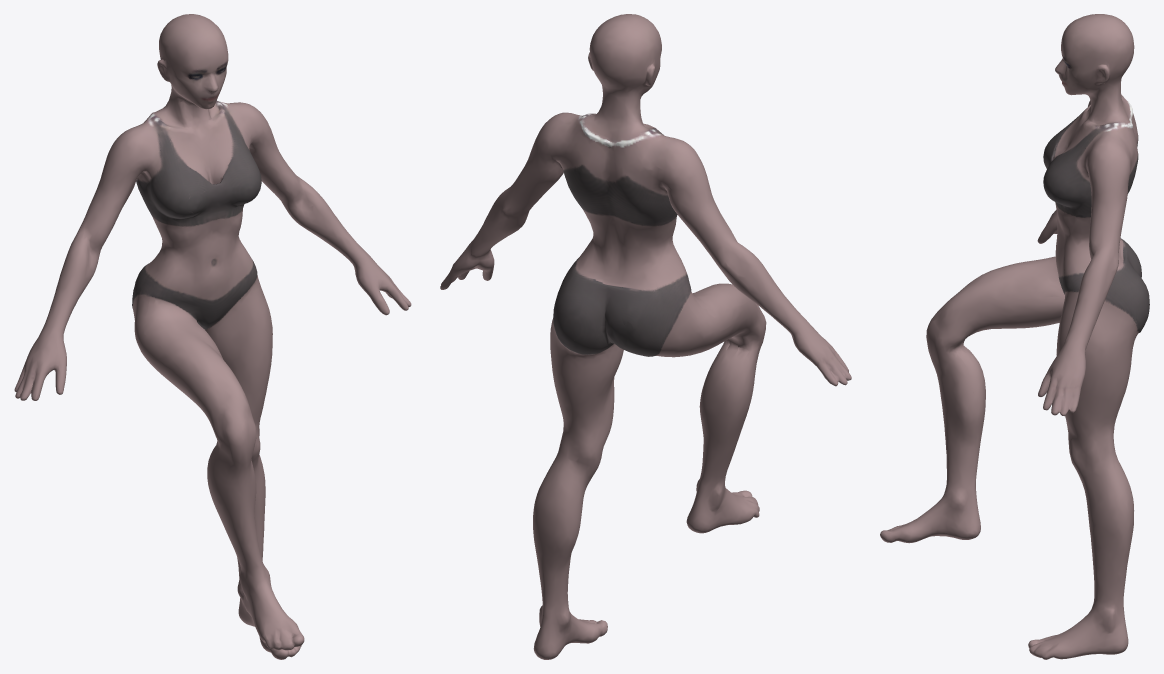
The model's file is 07-ThighL-60-child60-twist20-candidate.glb.
3 renders of one model, left to right at view 1: azimuth 30°, elevation 25°; view 2: azimuth 150°, elevation 25°; view 3: azimuth 270°, elevation 25°, orthographic. The views are drawn at different scales.
Visible parts, largest first — view 1: candidate; view 2: candidate; view 3: candidate.
Part boxes in pixels (x1,y1,x2,y2): candidate: (14,14,411,659); candidate: (440,14,851,659); candidate: (880,14,1149,659).
Size of the model in its own units: 0.6509 by 1 by 0.403.
Materials: 1 (1 with a texture image).
